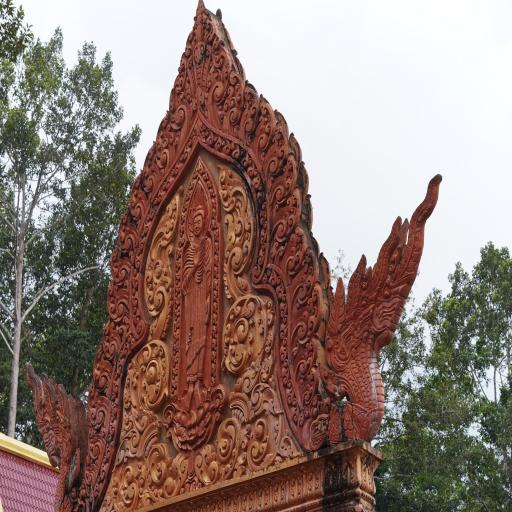hoa: (158, 384, 228, 453)
la: (216, 162, 254, 300), (220, 290, 278, 380), (141, 184, 180, 315), (124, 339, 172, 417), (193, 415, 243, 483), (244, 383, 280, 467), (146, 436, 188, 500), (288, 244, 322, 315), (291, 288, 324, 356), (166, 57, 190, 140), (267, 148, 298, 212), (277, 225, 311, 283), (260, 121, 289, 187), (182, 3, 218, 55), (273, 186, 306, 242), (240, 77, 262, 149), (252, 94, 274, 163), (110, 463, 140, 512), (290, 331, 318, 383), (222, 68, 244, 133), (139, 139, 162, 198), (206, 60, 225, 131), (148, 290, 174, 340), (293, 338, 319, 386), (89, 346, 114, 394), (156, 115, 175, 177), (105, 278, 130, 324), (113, 426, 144, 462), (129, 170, 149, 224), (85, 383, 109, 427), (115, 209, 138, 254), (108, 246, 133, 287), (100, 315, 121, 360), (300, 366, 321, 405), (340, 450, 360, 488), (360, 452, 378, 494), (288, 465, 307, 504), (279, 429, 301, 462), (306, 462, 325, 500), (272, 473, 290, 510), (324, 454, 341, 493), (87, 424, 105, 460), (211, 36, 230, 70), (82, 452, 99, 488), (256, 476, 272, 512), (242, 482, 258, 512), (225, 485, 242, 512), (235, 449, 249, 480), (264, 322, 277, 354), (260, 350, 273, 382), (238, 420, 252, 449), (190, 116, 208, 138), (264, 303, 278, 328), (209, 491, 225, 512), (122, 381, 134, 408), (120, 332, 134, 353), (182, 136, 194, 160), (122, 408, 134, 432), (228, 140, 241, 161), (165, 168, 176, 192), (280, 359, 290, 385), (266, 266, 279, 286), (290, 399, 300, 424), (116, 349, 125, 376), (148, 197, 159, 219), (173, 154, 184, 176), (251, 262, 262, 284), (104, 434, 114, 458), (285, 380, 295, 404), (259, 221, 269, 245), (99, 495, 113, 512), (196, 495, 210, 512), (279, 336, 288, 362), (110, 393, 120, 415), (130, 286, 140, 308), (278, 294, 288, 316), (100, 456, 109, 480), (137, 230, 147, 250), (142, 213, 152, 233), (157, 182, 167, 202), (275, 278, 285, 298), (108, 414, 117, 436), (258, 242, 267, 264), (181, 498, 195, 512), (280, 314, 288, 338), (221, 136, 231, 155), (111, 371, 120, 392), (131, 267, 140, 288), (258, 201, 267, 222), (256, 184, 265, 205), (252, 168, 260, 190), (246, 157, 254, 179), (93, 475, 101, 496), (167, 501, 182, 512), (132, 306, 141, 324), (240, 150, 249, 168), (205, 130, 214, 148), (134, 249, 142, 269), (213, 132, 221, 152), (194, 160, 204, 176), (172, 348, 180, 364), (190, 174, 197, 190), (182, 194, 190, 208), (172, 326, 180, 340), (171, 362, 179, 376), (170, 388, 178, 402), (211, 321, 218, 336), (213, 237, 220, 252), (176, 242, 183, 256), (173, 316, 180, 330), (171, 373, 178, 387), (211, 346, 217, 362), (213, 273, 219, 289), (211, 192, 217, 208), (211, 335, 218, 348), (178, 218, 185, 231), (212, 309, 218, 324), (213, 284, 219, 299), (214, 262, 220, 277), (214, 250, 220, 265), (181, 206, 187, 221), (210, 372, 216, 386), (211, 358, 217, 372), (211, 215, 217, 229), (179, 230, 185, 244), (175, 267, 182, 279), (174, 278, 180, 292), (175, 255, 181, 268), (174, 291, 180, 304), (212, 204, 217, 218), (202, 168, 207, 182), (214, 223, 218, 240), (173, 339, 179, 350), (213, 298, 218, 310), (209, 182, 213, 197), (206, 174, 210, 188), (188, 186, 192, 199)
ran: (324, 168, 442, 446), (23, 358, 84, 512), (192, 43, 206, 94), (202, 44, 214, 94), (185, 54, 197, 100)
than: (182, 202, 211, 409)
